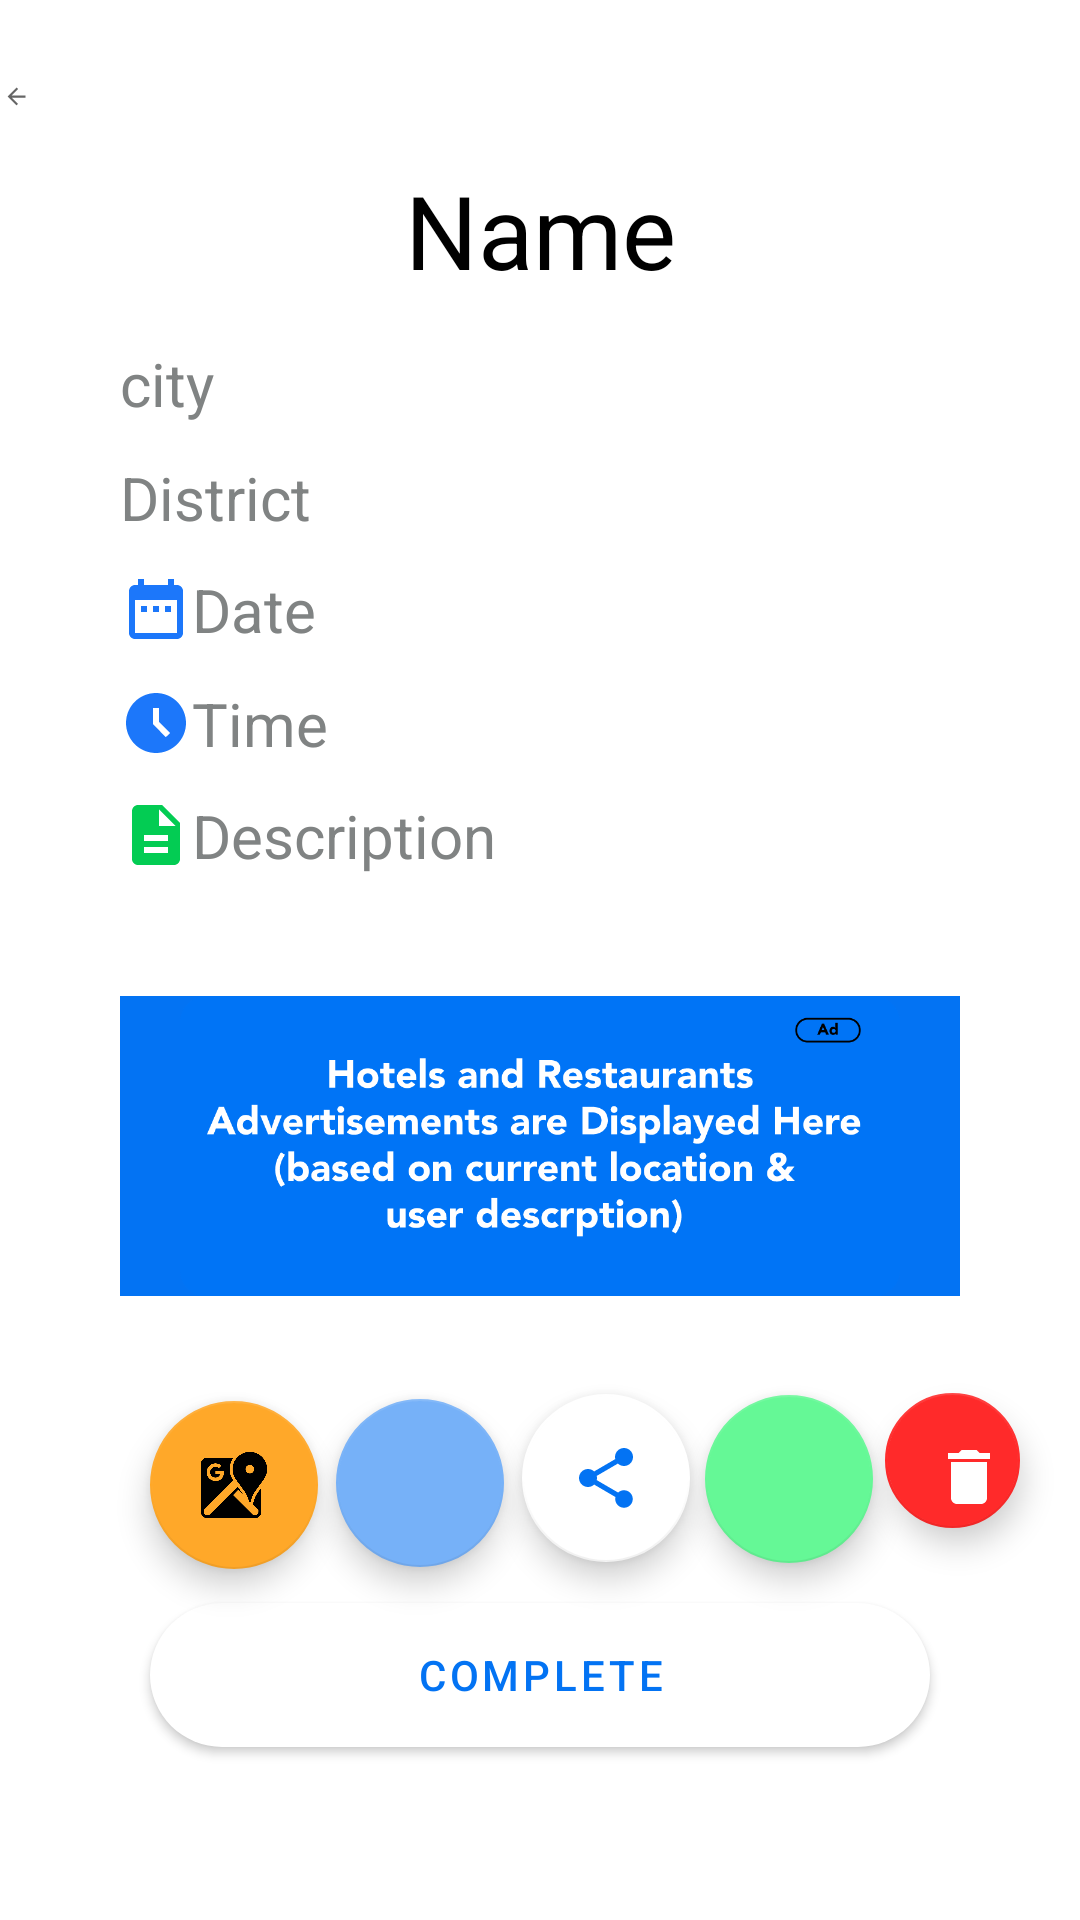

Where to tap for icons on this 1080px x 1920px app screen, as point (x, y):
DELETE: point (952, 1460)
share: point (606, 1505)
